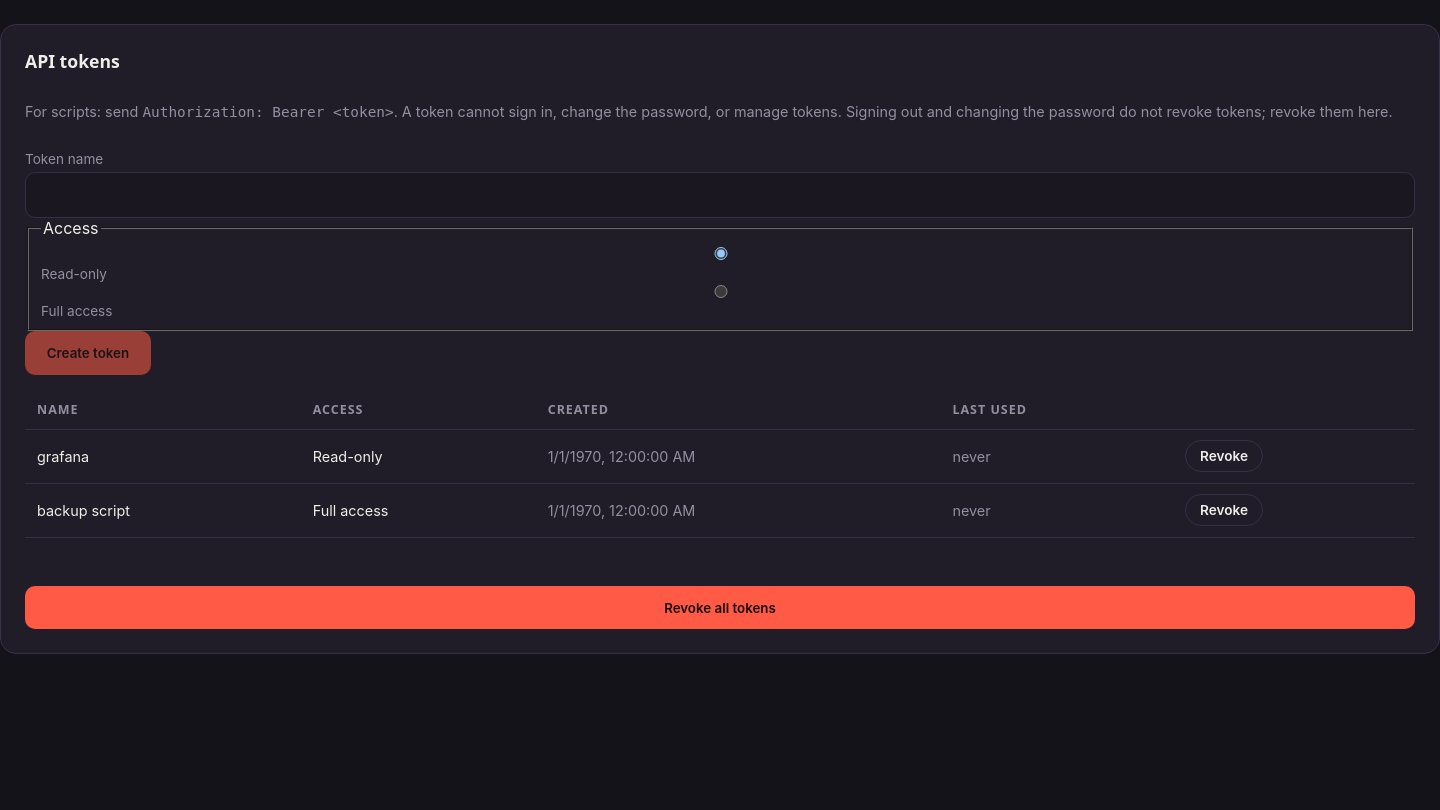
it: ApiTokens › revokes all tokens after an inline confirm
Click the button "Revoke all tokens". click: (720, 608)
box: [25,586,1415,629]
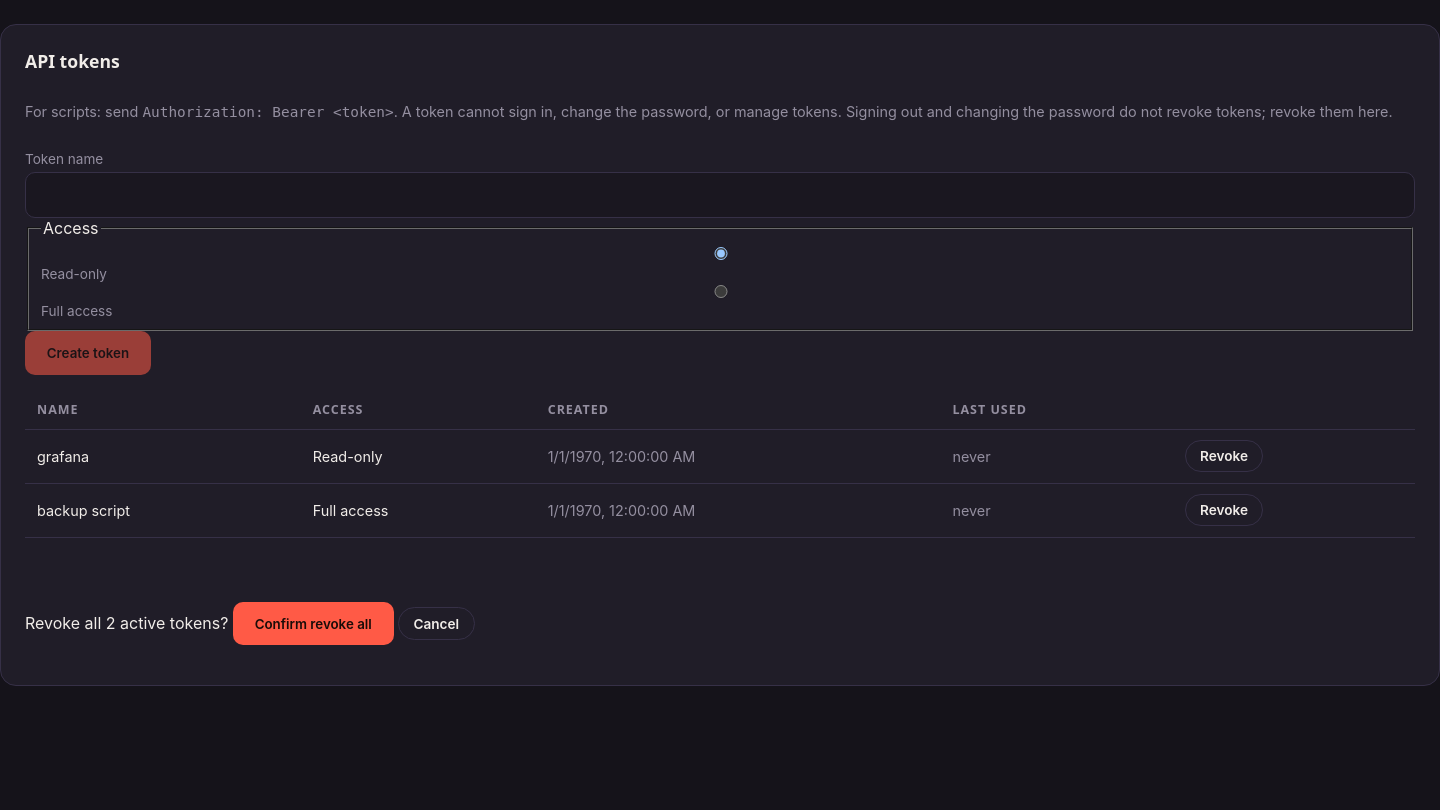
expect the text "Revoke all 2 active tokens?" is shown: met, box [25,602,474,645]
Click the button "Confirm revoke all". click: (313, 624)
box: [233,602,394,645]
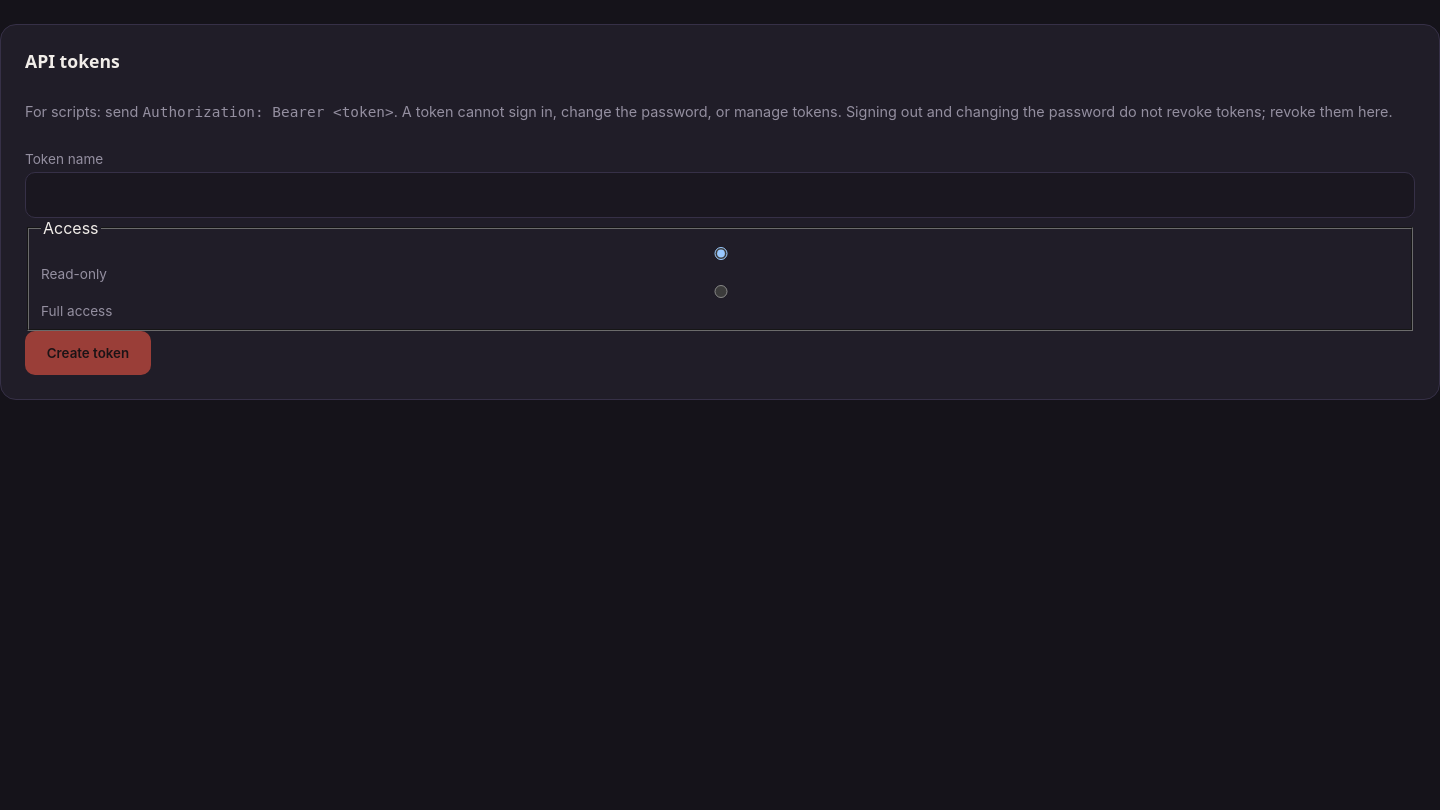
expect the text "grafana" is gone: met
